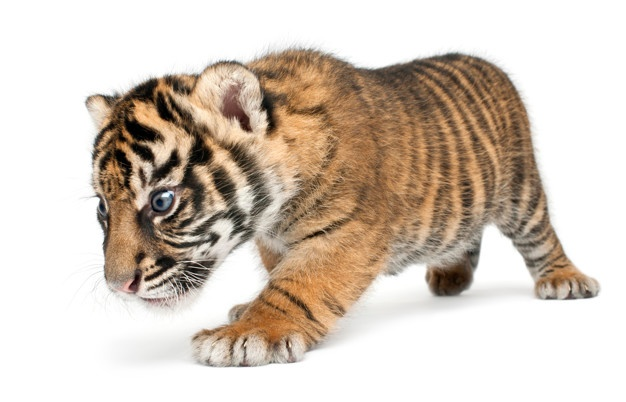Tigrew: (53, 44, 607, 340)
